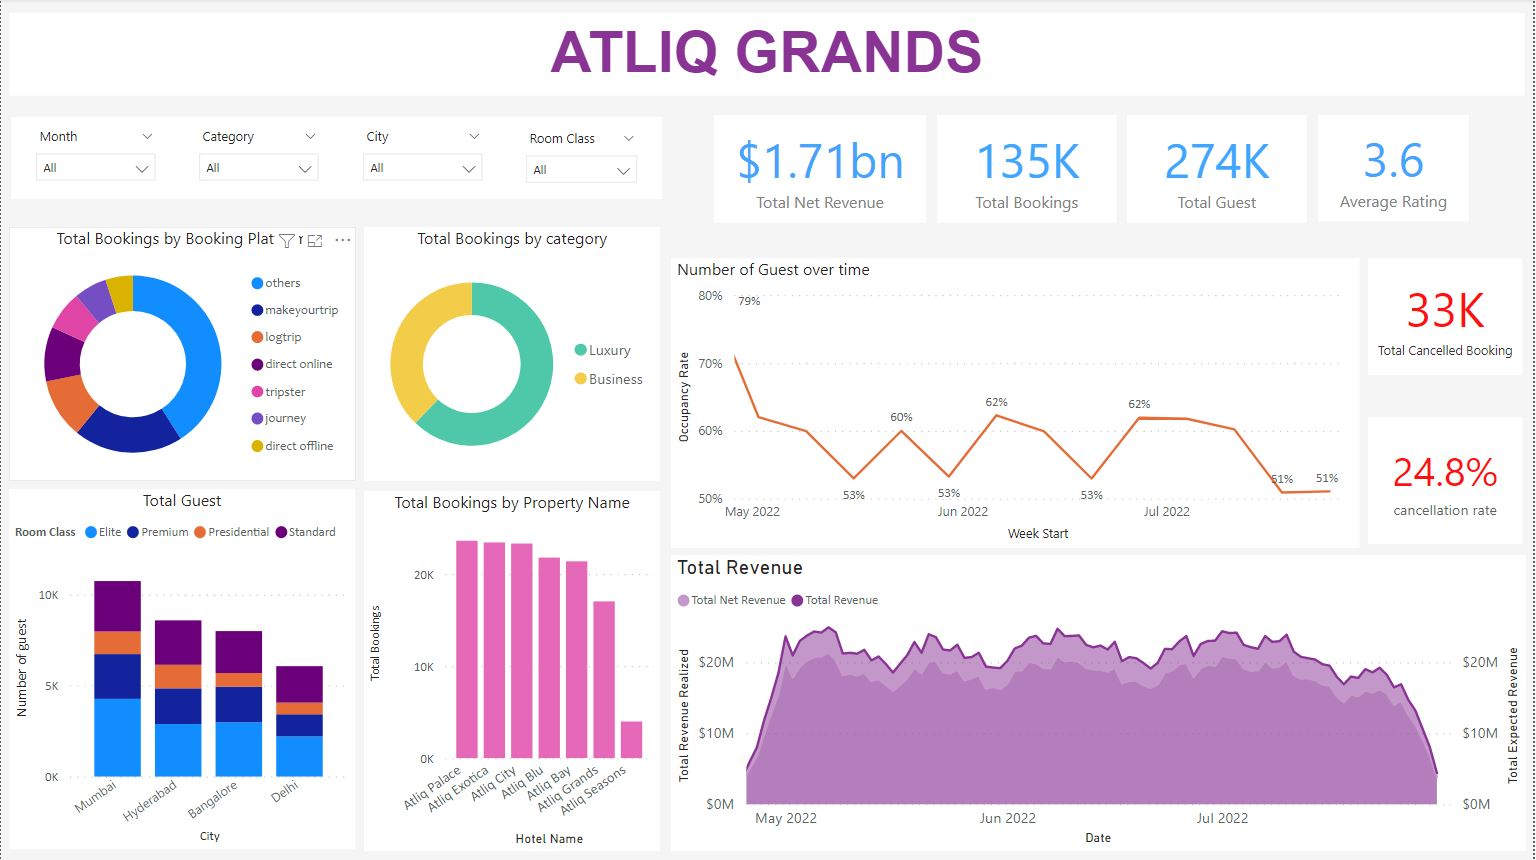

Layout of this report page (visuals, bound fields, positions):
{"tool":"powerbi","page":{"name":"Page 1","canvas":[1280,720],"ordinal":0},"visuals":[{"type":"shape","box":[8,98.4,543.5,69.2],"z":0},{"type":"areaChart","title":"Total Revenue ","fields":{"Category":["fact_bookings.booking_date"],"Y":["fact_bookings.Total Net Revenue"],"Y2":["fact_bookings.Total Revenue"]},"box":[559.5,464.6,713.8,247.4],"z":1000},{"type":"card","fields":{"Values":["fact_bookings.Total Net Revenue"]},"box":[595.9,96.7,177.3,89.6],"z":2000},{"type":"card","fields":{"Values":["fact_bookings.Total Bookings"]},"box":[782.1,96.7,149.9,89.6],"z":3000},{"type":"card","fields":{"Values":["fact_bookings.Total Guest"]},"box":[940.8,96.7,149.9,89.6],"z":4000},{"type":"textbox","box":[7.1,11.5,1266.2,69.2],"z":5000},{"type":"slicer","fields":{"Values":["dim_hotels.city"]},"box":[292,102.1,119.7,58.5],"z":6000},{"type":"slicer","fields":{"Values":["dim_hotels.category"]},"box":[155.8,102.1,119.7,58.5],"z":7000},{"type":"slicer","fields":{"Values":["fact_bookings.Booking_Month"]},"box":[19.5,102.1,119.7,58.5],"z":8000},{"type":"donutChart","title":"Total Bookings by Booking Platform","fields":{"Category":["fact_bookings.booking_platform"],"Y":["fact_bookings.Total Bookings"]},"box":[7.1,190.6,289.1,211.9],"z":9000},{"type":"columnChart","title":"Total Guest ","fields":{"Category":["dim_hotels.city"],"Y":["fact_bookings.Total Cancelled Booking"],"Series":["dim_rooms.room_class"]},"box":[7.1,409.7,289.1,301.5],"z":10000},{"type":"donutChart","fields":{"Y":["fact_bookings.Total Bookings"],"Category":["dim_hotels.category"]},"box":[303.3,190.6,247.4,211.9],"z":11000},{"type":"card","fields":{"Values":["fact_bookings.Average Rating"]},"box":[1100.4,96.7,125.9,88.7],"z":12000},{"type":"lineChart","title":"Number of Guest over time","fields":{"Y":["fact_aggregated_bookings.occupany rate"],"Category":["fact_aggregated_bookings.Week Start Data"]},"box":[559.5,216.4,575.5,242.1],"z":14000},{"type":"clusteredColumnChart","title":"Total Bookings by Property Name","fields":{"Y":["fact_bookings.Total Bookings"],"Category":["dim_hotels.property_name"]},"box":[303.3,410.5,247.4,301.5],"z":15000},{"type":"slicer","fields":{"Values":["dim_rooms.room_class"]},"box":[428.3,103.9,112.6,58.5],"z":16000},{"type":"card","title":"dfdf","fields":{"Values":["fact_bookings.Total Cancelled Booking"]},"box":[1142.1,216.4,129.5,97.5],"z":17000},{"type":"card","fields":{"Values":["fact_bookings.cancellation rate"]},"box":[1142.1,349.4,129.5,105.5],"z":17001}]}

Visuals, with their boxes in screenshot pixels (x1, y1, x2, y2), scaled from the page's 1280x720 canvas onto the 1536x860 screenshot:
shape: {"x1": 10, "y1": 118, "x2": 662, "y2": 200}
"Total Revenue " areaChart: {"x1": 671, "y1": 555, "x2": 1528, "y2": 850}
card - fact_bookings.Total Net Revenue: {"x1": 715, "y1": 116, "x2": 928, "y2": 223}
card - fact_bookings.Total Bookings: {"x1": 939, "y1": 116, "x2": 1118, "y2": 223}
card - fact_bookings.Total Guest: {"x1": 1129, "y1": 116, "x2": 1309, "y2": 223}
textbox: {"x1": 9, "y1": 14, "x2": 1528, "y2": 96}
slicer - dim_hotels.city: {"x1": 350, "y1": 122, "x2": 494, "y2": 192}
slicer - dim_hotels.category: {"x1": 187, "y1": 122, "x2": 331, "y2": 192}
slicer - fact_bookings.Booking_Month: {"x1": 23, "y1": 122, "x2": 167, "y2": 192}
"Total Bookings by Booking Platform" donutChart: {"x1": 9, "y1": 228, "x2": 355, "y2": 481}
"Total Guest " columnChart: {"x1": 9, "y1": 489, "x2": 355, "y2": 849}
donutChart - fact_bookings.Total Bookings x dim_hotels.category: {"x1": 364, "y1": 228, "x2": 661, "y2": 481}
card - fact_bookings.Average Rating: {"x1": 1320, "y1": 116, "x2": 1472, "y2": 221}
"Number of Guest over time" lineChart: {"x1": 671, "y1": 258, "x2": 1362, "y2": 548}
"Total Bookings by Property Name" clusteredColumnChart: {"x1": 364, "y1": 490, "x2": 661, "y2": 850}
slicer - dim_rooms.room_class: {"x1": 514, "y1": 124, "x2": 649, "y2": 194}
"dfdf" card: {"x1": 1371, "y1": 258, "x2": 1526, "y2": 375}
card - fact_bookings.cancellation rate: {"x1": 1371, "y1": 417, "x2": 1526, "y2": 543}
